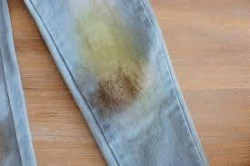earth: (85, 14, 140, 103)
